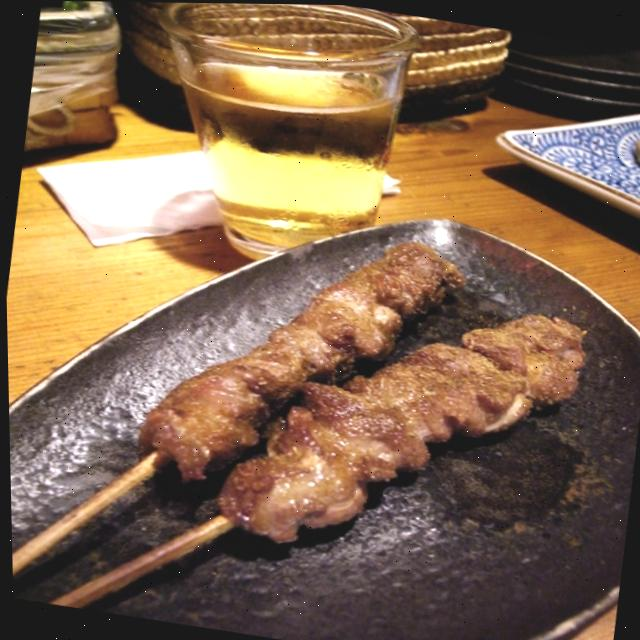烧串烤肉: (2, 137, 640, 640)
